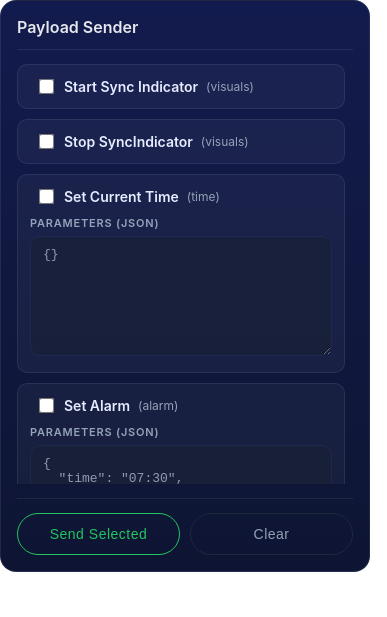
it: DevTools › Payload Selection and Sending › surfaces the error returned by the sender and applies error styling
The width and height of the screenshot is (387, 617).
Click the checkbox labelled "Start Sync Indicator (visuals)" at (46, 86), box x1=39 y1=79 x2=54 y2=94
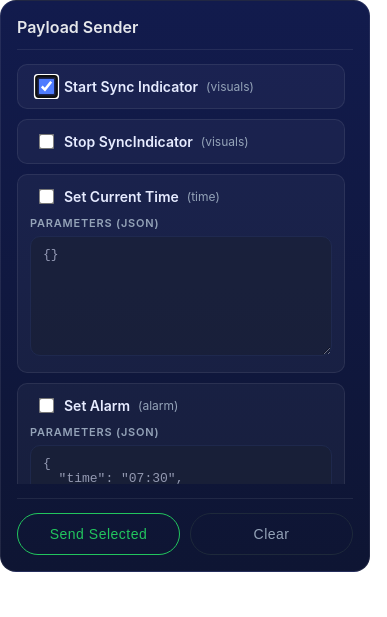
Click the button "Send Selected" at (98, 534), box x1=17 y1=513 x2=180 y2=555
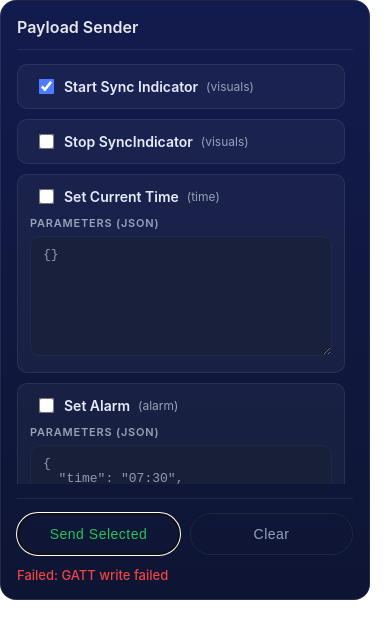
Now the message reads "Failed: GATT write failed", box x1=17 y1=567 x2=168 y2=583
